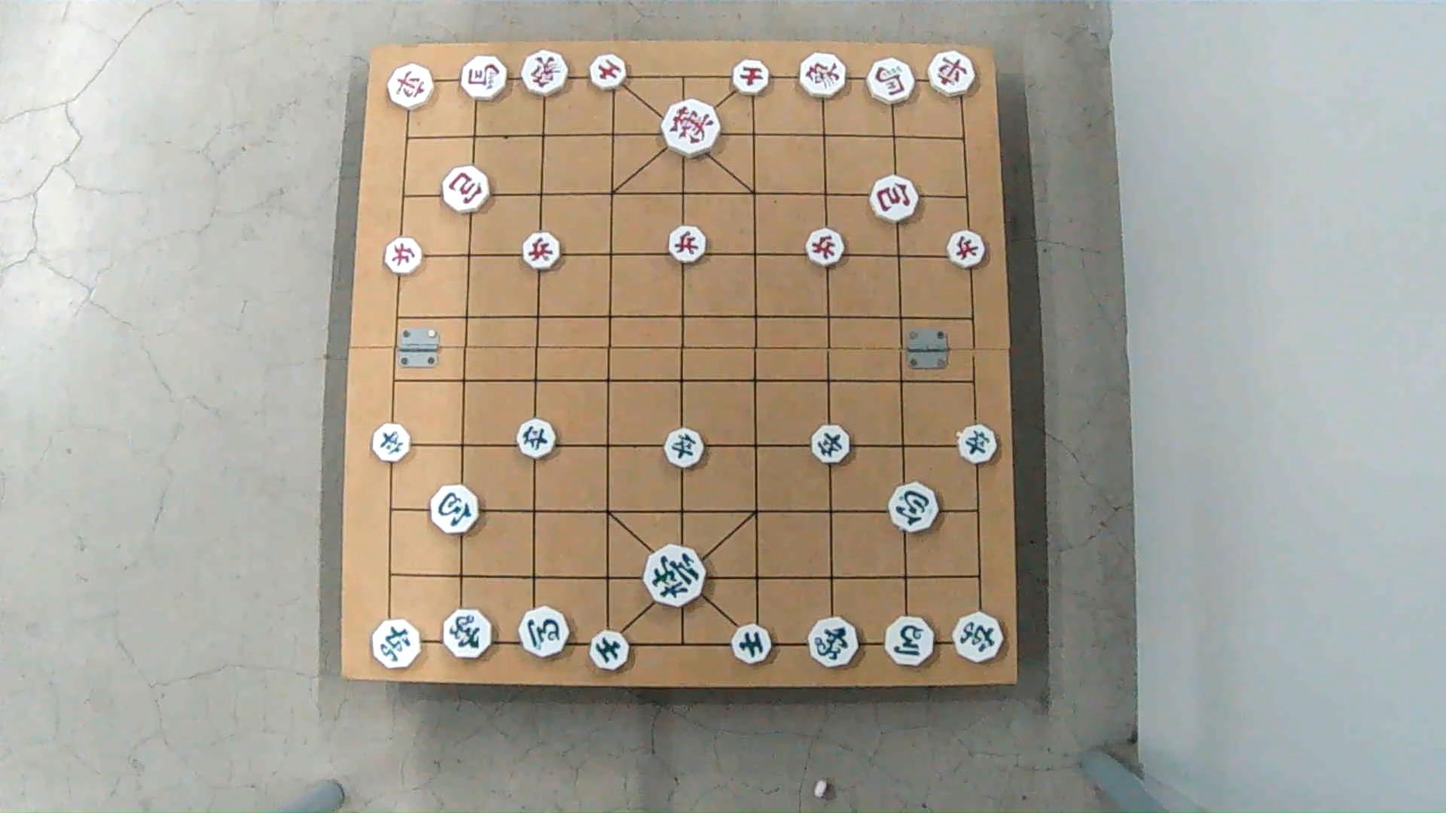cha_green: (950, 611, 1005, 662), (373, 620, 423, 667)
cha_red: (384, 62, 437, 108), (926, 51, 978, 96)
jol_green: (373, 427, 413, 464), (519, 422, 559, 459), (955, 428, 996, 464), (662, 431, 702, 467), (810, 428, 848, 464)
jol_red: (522, 233, 562, 269), (804, 229, 844, 264), (665, 226, 704, 261), (385, 240, 424, 275), (947, 231, 986, 266)
ma_green: (518, 604, 569, 662), (883, 617, 933, 665)
ma_red: (461, 56, 510, 101), (867, 60, 917, 103)
po_green: (886, 484, 938, 531), (430, 489, 480, 533)
po_red: (868, 177, 919, 221), (444, 167, 491, 211)
sa_green: (733, 626, 776, 663), (591, 631, 630, 669)
sa_red: (590, 54, 629, 89), (731, 60, 770, 93)
sang_green: (807, 615, 862, 671), (446, 607, 495, 659)
sang_red: (522, 50, 571, 96), (798, 52, 847, 95)
wang_green: (644, 547, 705, 606)
wang_red: (659, 102, 719, 156)
